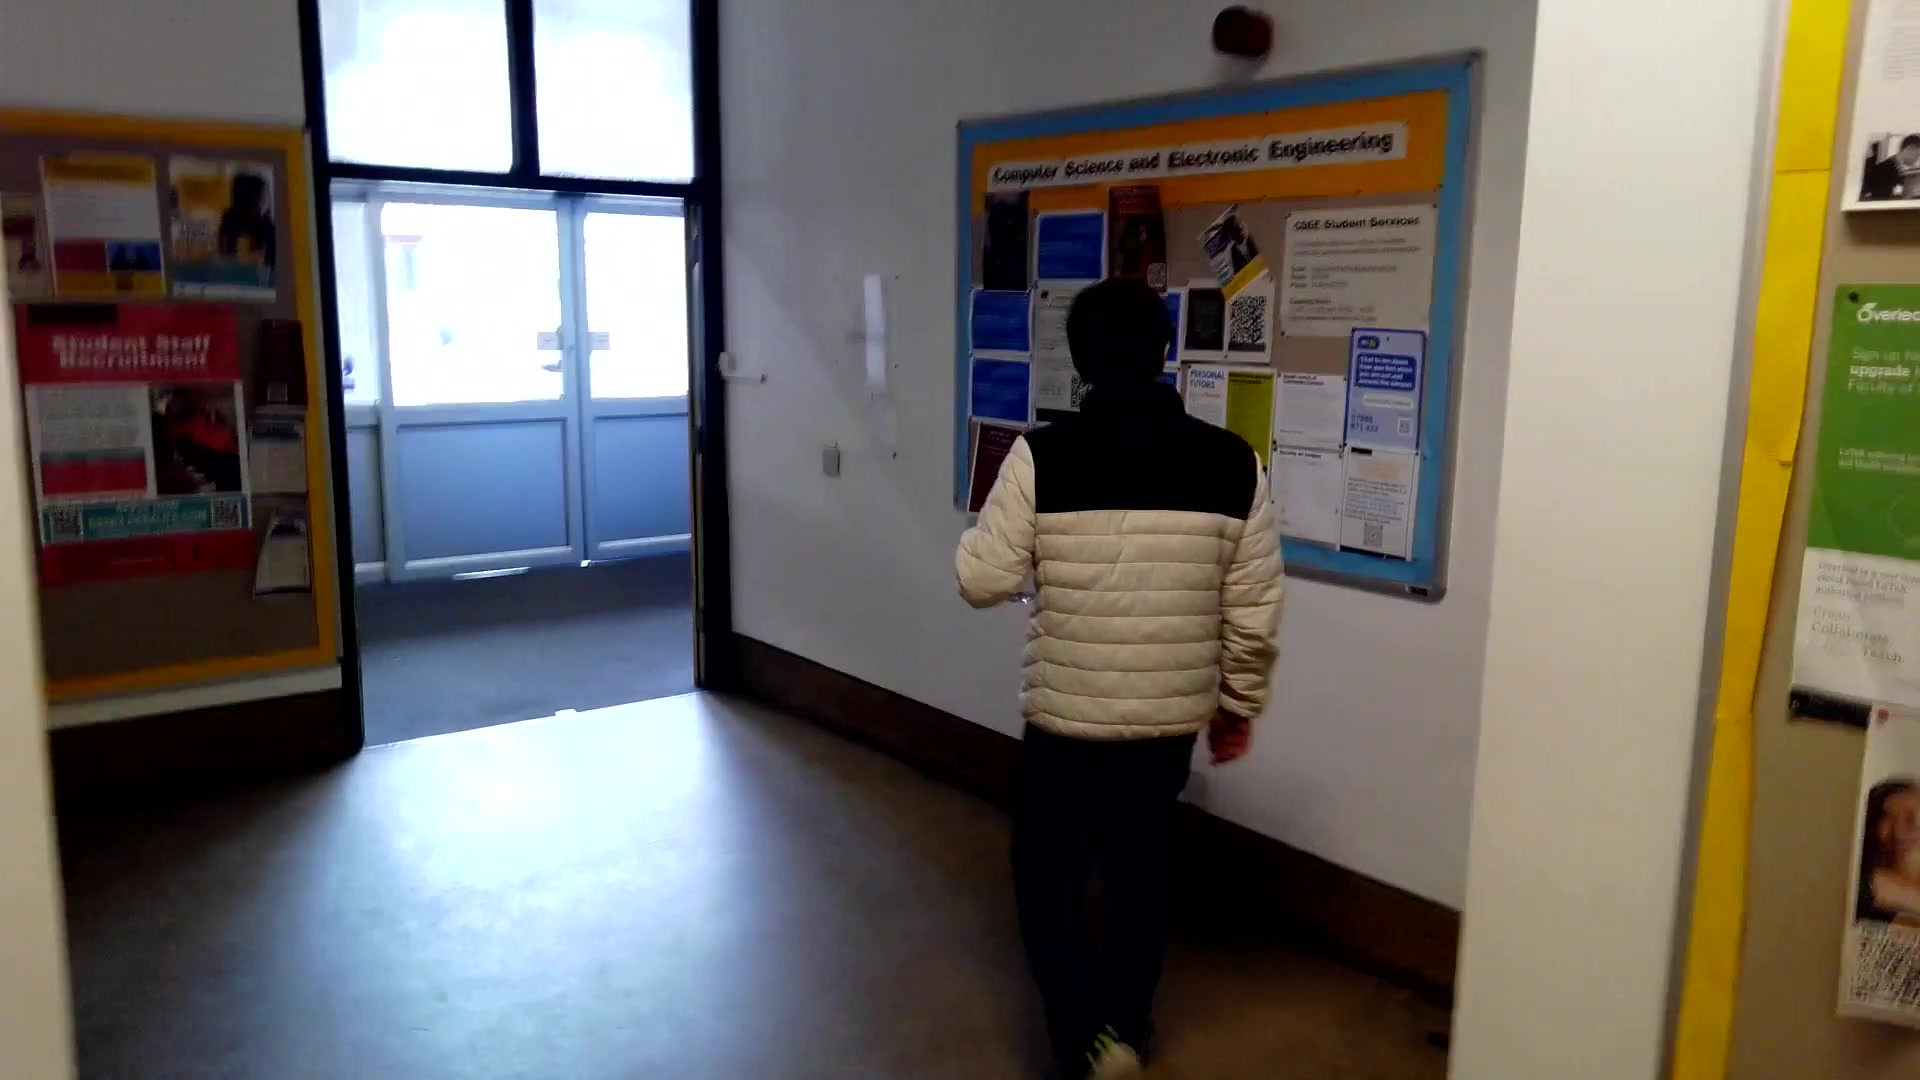Person: (994, 279, 1265, 1078)
